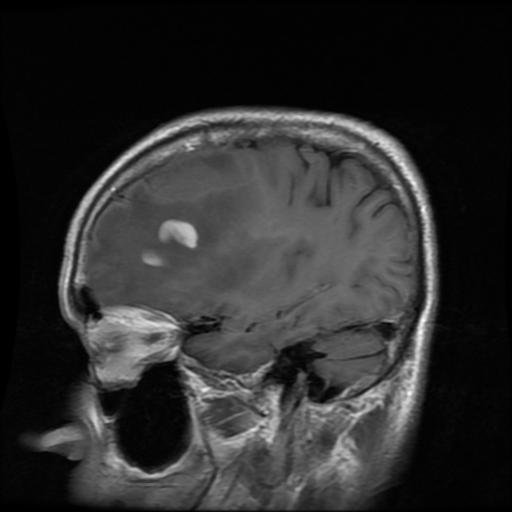Gliomia_tumour: (139, 219, 197, 268)
